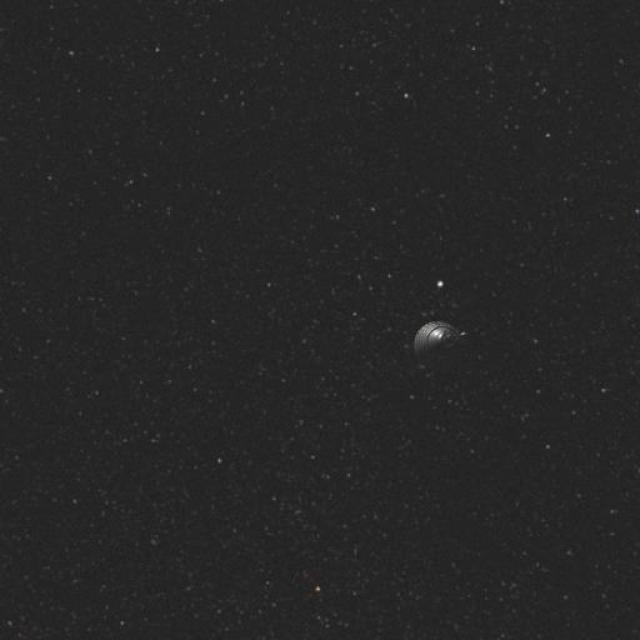debris: (401, 283, 507, 400)
